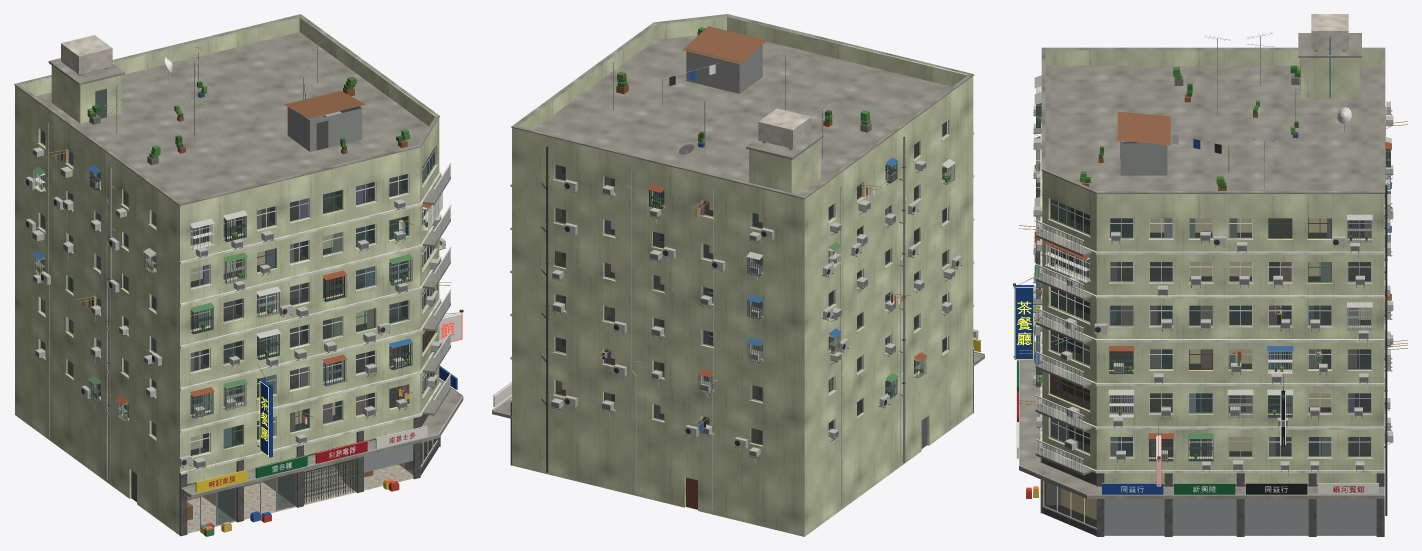
The model's file is hk-pastel-corner.glb.
The picture shows the model from 3 angles, left to right: view 1: azimuth 30°, elevation 25°; view 2: azimuth 150°, elevation 25°; view 3: azimuth 270°, elevation 25°; orthographic projection. The views are drawn at different scales.
Visible parts, largest first — view 1: Building_wall, Building_slab, Building_glass, Building_metal, Building_vc, Building_room, Building_frame, Building_trim, Building_ac, Building_board, Building_floor_tile, Building_granite (+4 smaller); view 2: Building_wall, Building_slab, Building_vc, Building_metal, Building_glass, Building_ac, Building_room, Building_tin, Building_tank, Building_frame; view 3: Building_wall, Building_slab, Building_glass, Building_metal, Building_vc, Building_room, Building_shutter, Building_trim, Building_frame, Building_ac, Building_board, Building_granite (+4 smaller).
Part boxes in pixels (x1,y1,x2,y2): Building_wall: (15, 17, 439, 535); Building_slab: (14, 14, 463, 498); Building_glass: (41, 130, 436, 524); Building_metal: (25, 31, 463, 503); Building_vc: (32, 57, 437, 536); Building_room: (41, 111, 436, 520); Building_frame: (40, 129, 437, 528); Building_trim: (180, 171, 441, 474); Building_ac: (26, 147, 445, 468); Building_board: (195, 311, 462, 492); Building_floor_tile: (187, 464, 413, 533); Building_granite: (179, 414, 440, 536); Building_wall: (512, 16, 973, 536); Building_slab: (492, 14, 984, 418); Building_vc: (541, 26, 955, 510); Building_metal: (492, 50, 984, 509); Building_glass: (555, 121, 946, 443); Building_ac: (551, 160, 978, 457); Building_room: (556, 122, 946, 443); Building_tin: (686, 45, 762, 93); Building_tank: (758, 108, 811, 148); Building_frame: (554, 120, 947, 445); Building_wall: (1041, 49, 1385, 485); Building_slab: (1019, 33, 1385, 498); Building_glass: (1044, 199, 1370, 527); Building_metal: (1013, 32, 1393, 495); Building_vc: (1026, 36, 1392, 515); Building_room: (1043, 141, 1370, 527); Building_shutter: (1043, 480, 1376, 535); Building_trim: (1040, 134, 1384, 473); Building_frame: (1043, 141, 1371, 528); Building_ac: (1033, 101, 1393, 470); Building_board: (1014, 285, 1378, 494); Building_granite: (1040, 450, 1384, 536).
Size of the model in its own units: 27.64 by 28.61 by 25.38.
22 materials, 9 textured.
